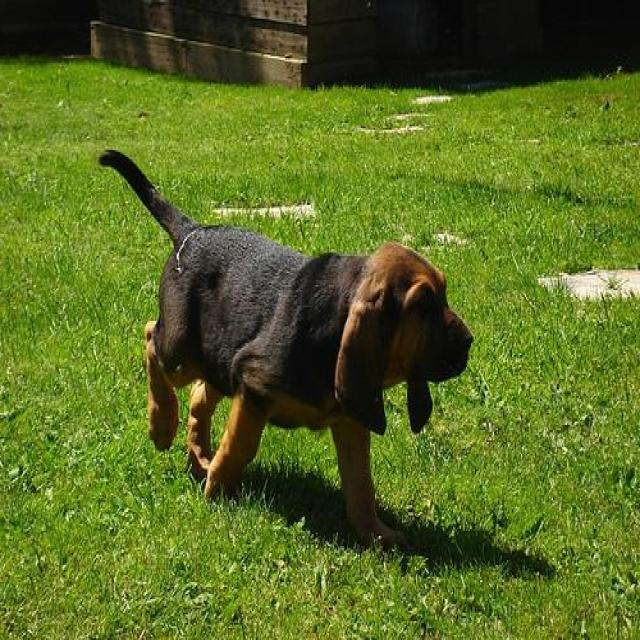bloodhound: (99, 145, 478, 548)
